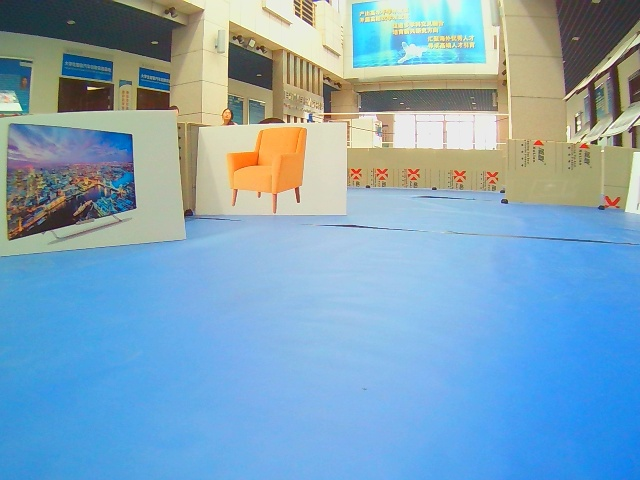sofa: (195, 123, 346, 216)
tv: (1, 109, 185, 259)
